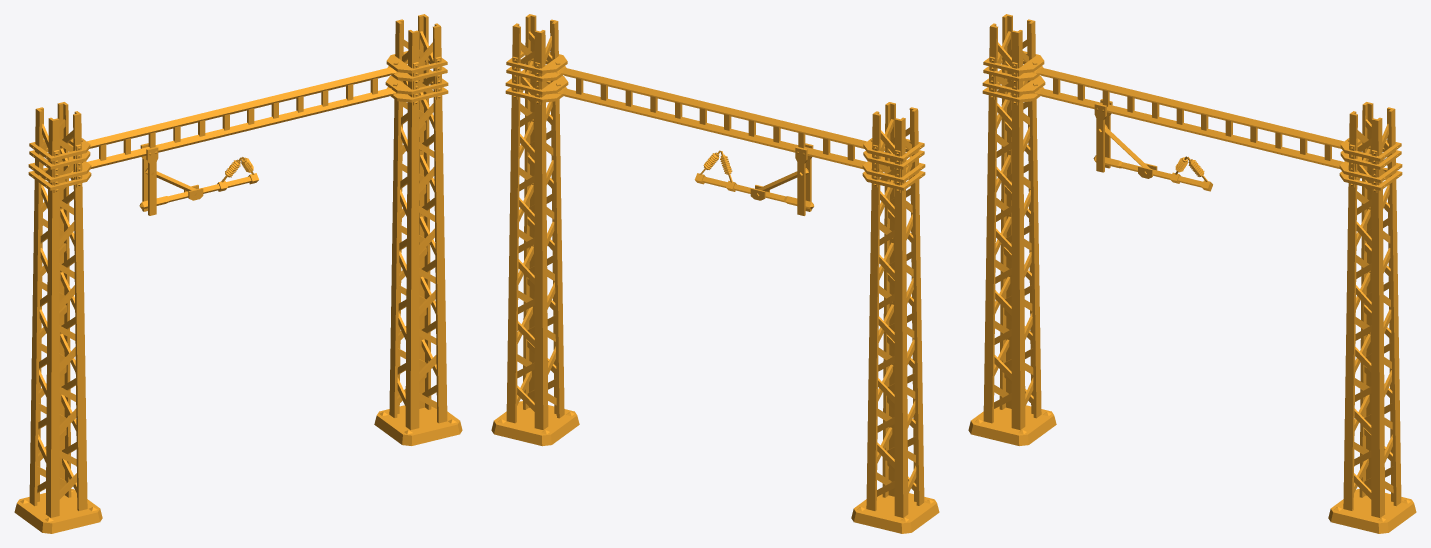
The model's file is SM_Train_Wiring_Pole.fbx.
3 renders of one model, left to right at view 1: azimuth 30°, elevation 25°; view 2: azimuth 150°, elevation 25°; view 3: azimuth 330°, elevation 25°, orthographic.
Parts seen in each view (by area): view 1: SM_Train_Wiring_Pole; view 2: SM_Train_Wiring_Pole; view 3: SM_Train_Wiring_Pole.
Boxes of the visible parts, x1=… form: SM_Train_Wiring_Pole: x1=14, y1=14, x2=462, y2=533; SM_Train_Wiring_Pole: x1=491, y1=14, x2=939, y2=533; SM_Train_Wiring_Pole: x1=968, y1=14, x2=1416, y2=533.
Bounding box in the file's own units: 9.34 × 8.58 × 1.34.
